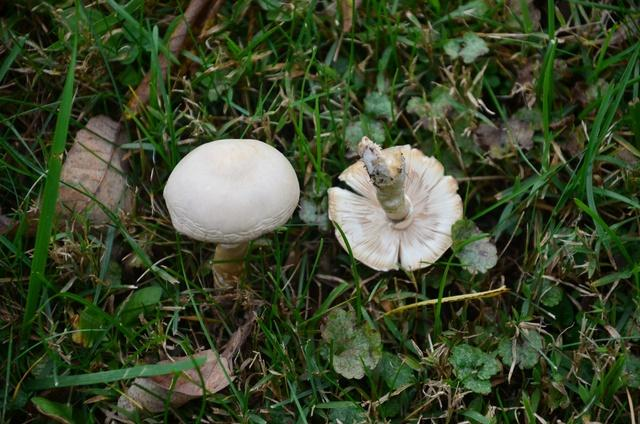Non-edible Mushroom: (162, 137, 300, 291), (326, 135, 464, 272)
